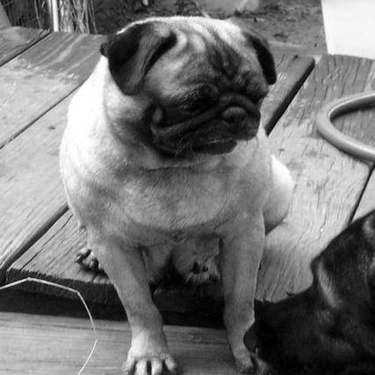dog: (47, 10, 303, 371)
